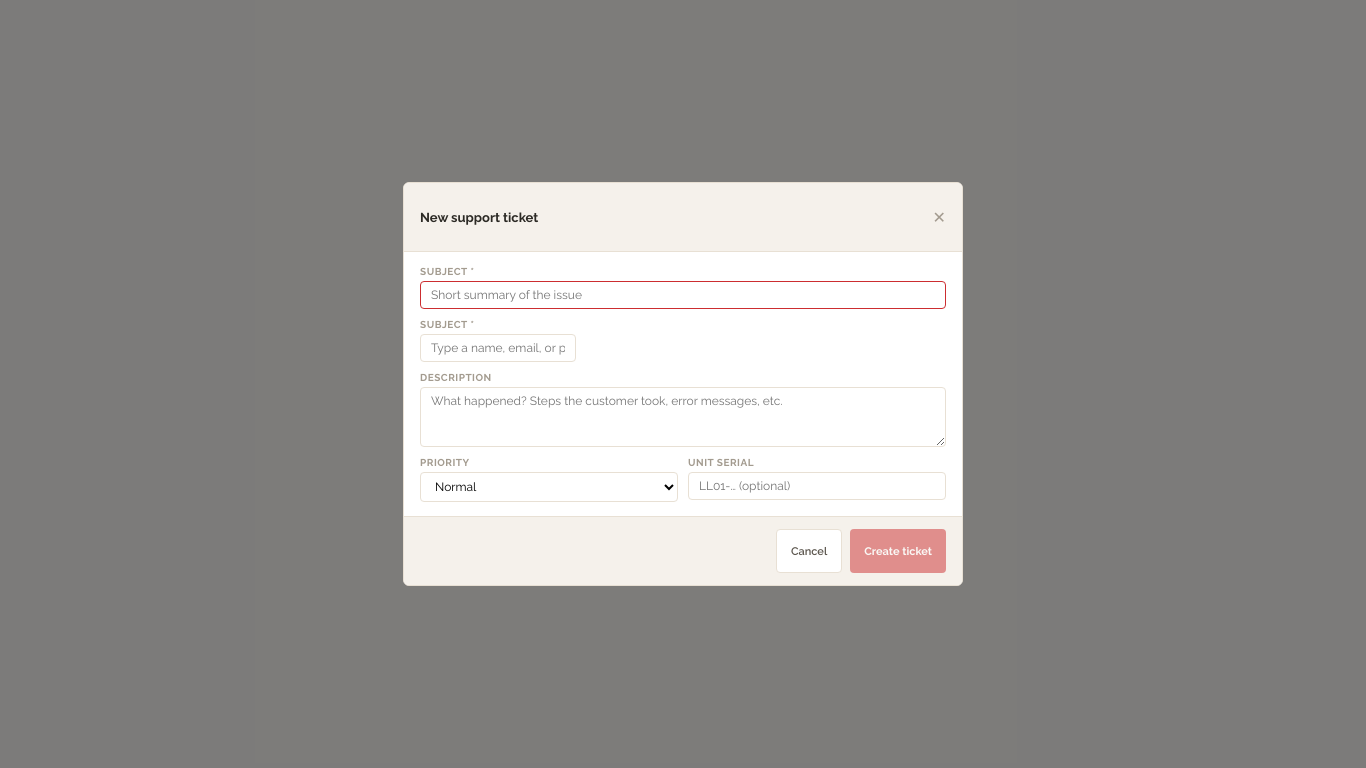
NewTicketModal — team members › offers a team member alongside customers and lets Create proceed
The image size is (1366, 768).
In the field with placeholder "Short summary of the issue": (683, 295) [420, 281, 946, 309], type "Fan rattling"
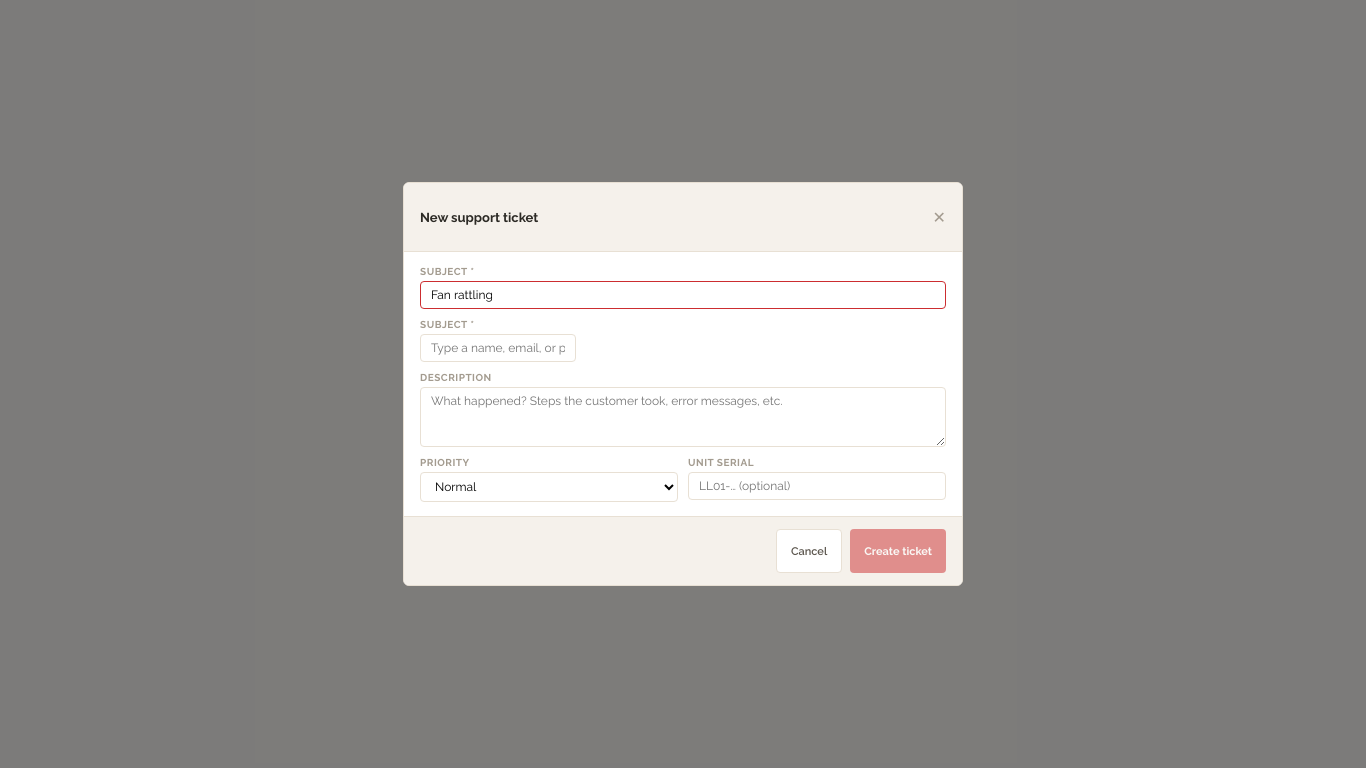
Check: the button "Create ticket" is disabled, box [850, 529, 946, 573]
In the field with placeholder "Type a name, email, or phone…": (498, 348) [420, 334, 576, 362], type "huayi"
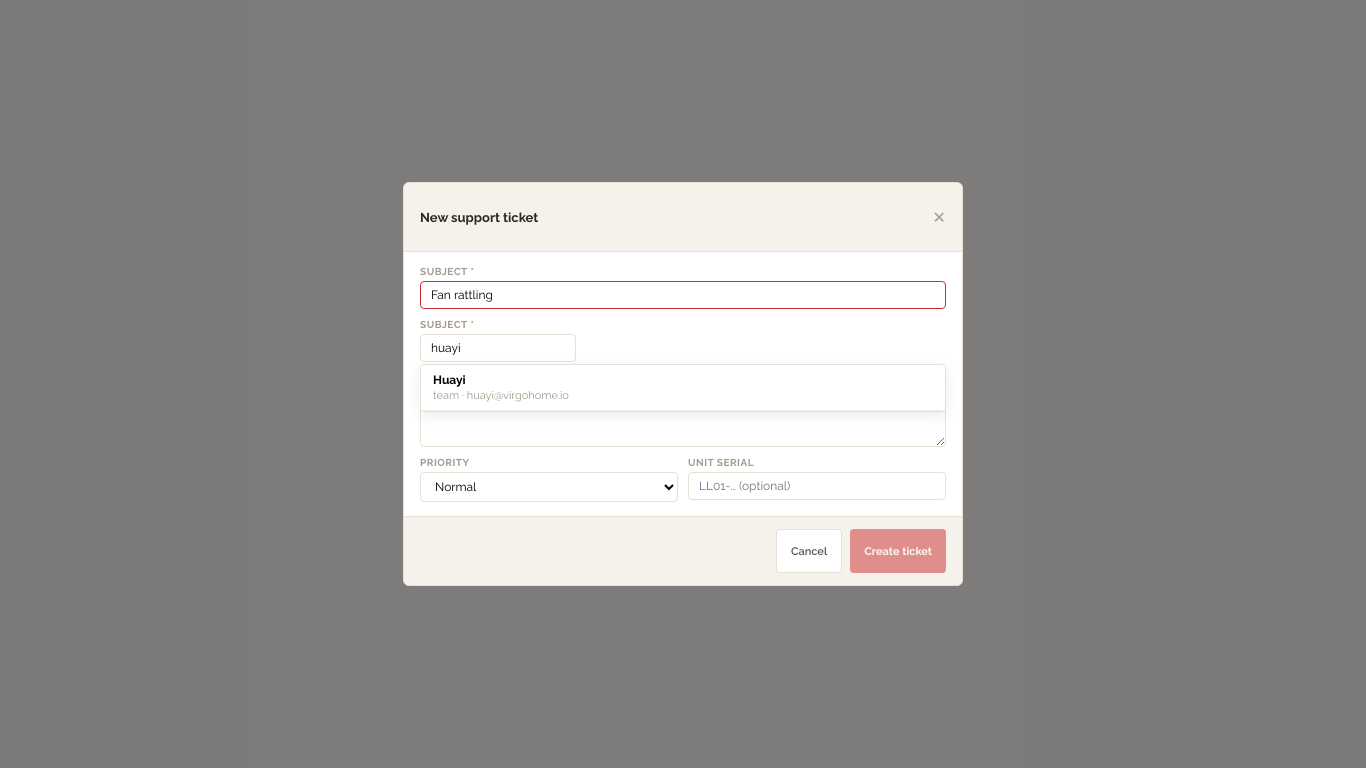
Click the button "Huayi team · huayi@virgohome.io": (449, 380) [421, 365, 945, 411]
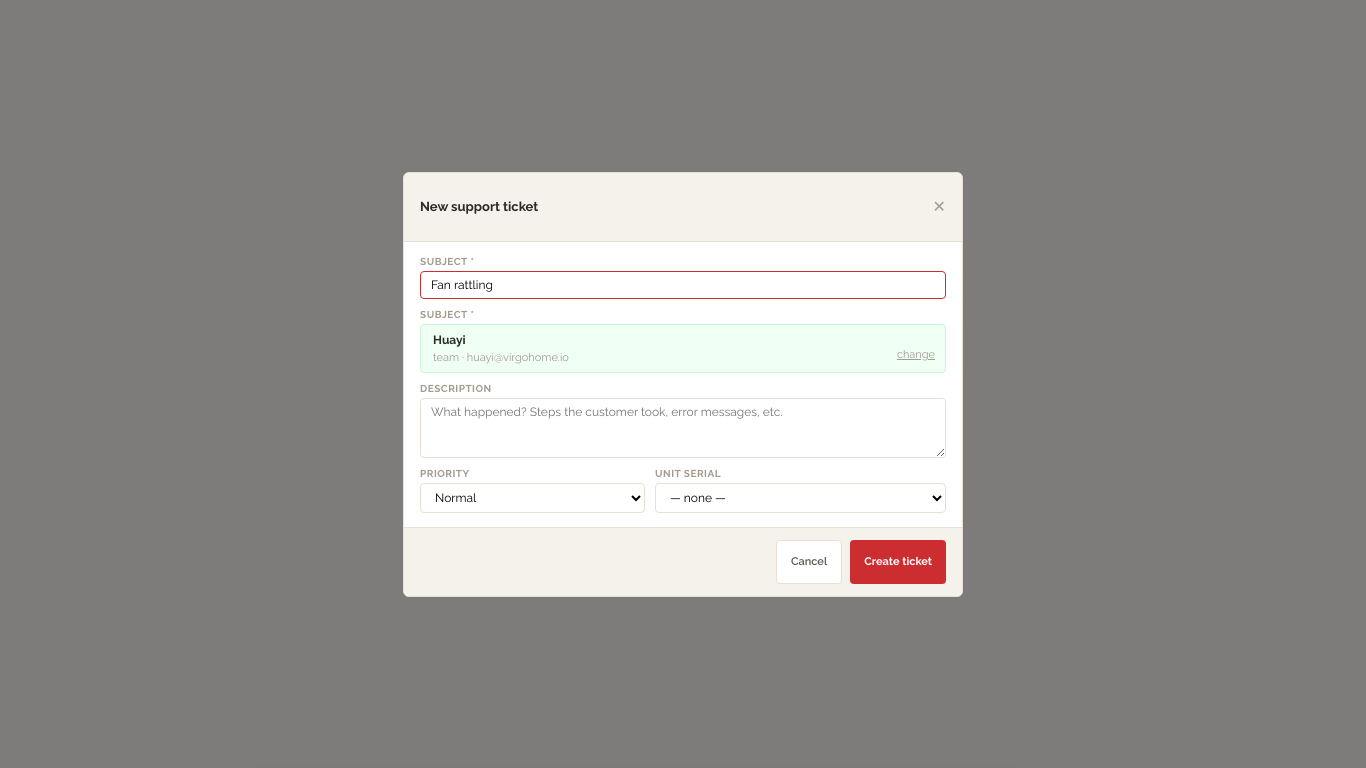
Check: the button "Create ticket" is enabled, box [850, 540, 946, 584]
